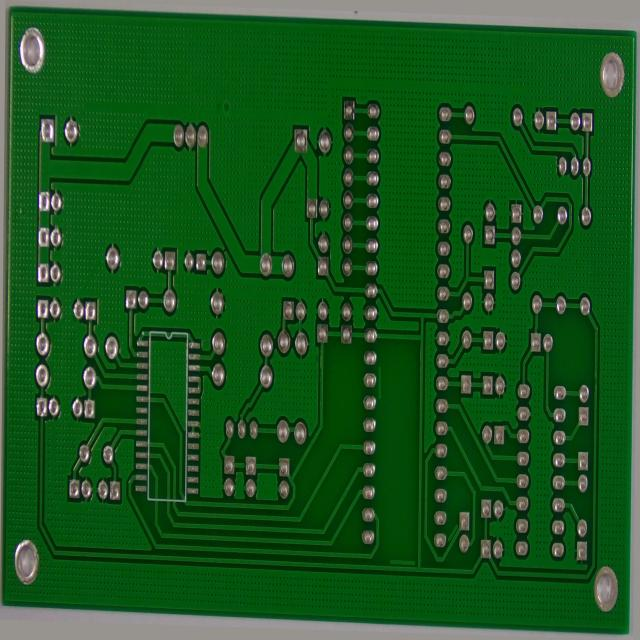spurious_copper: (389, 557, 422, 579), (375, 361, 387, 405), (447, 523, 464, 548)
